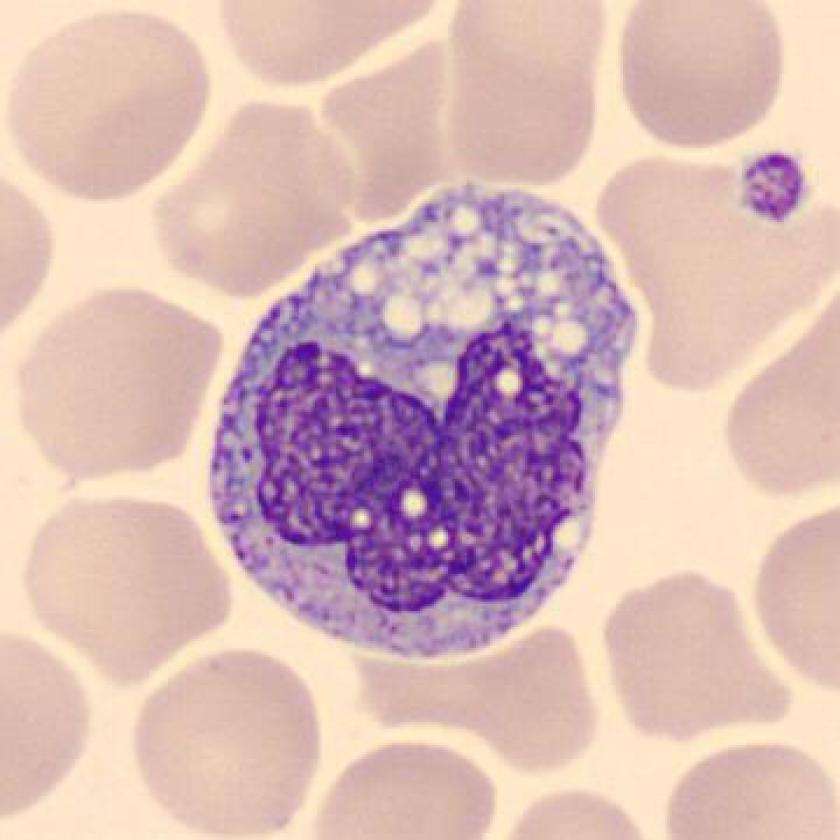monocyte: (181, 163, 659, 679)
